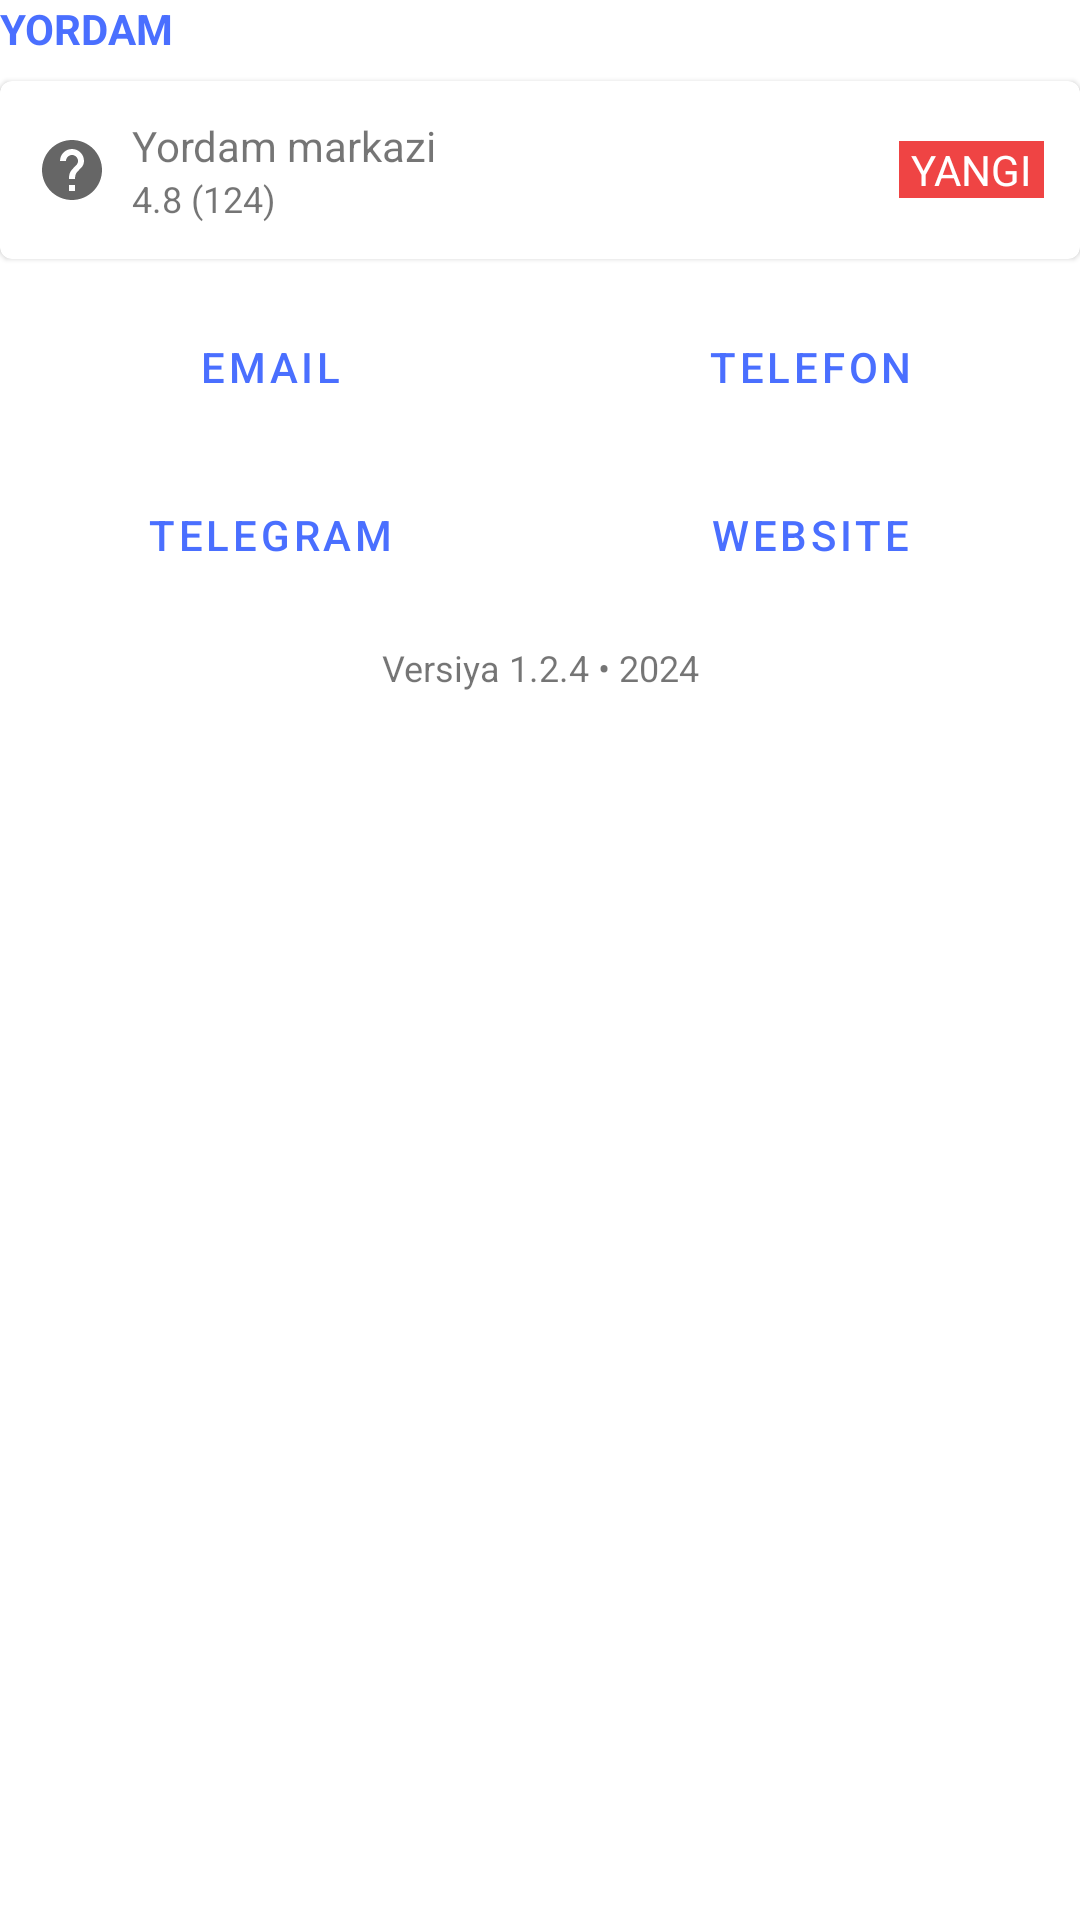

Icons on this 1080px x 1920px Android screen, each with the point to tap as point (x, y):
help: point (72, 170)
